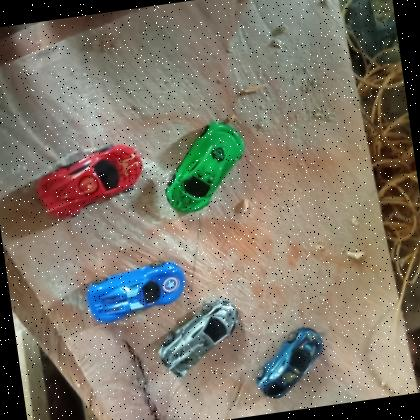Car: (30, 139, 152, 225), (154, 118, 253, 220), (151, 296, 248, 382), (82, 256, 191, 328), (248, 324, 332, 404)
